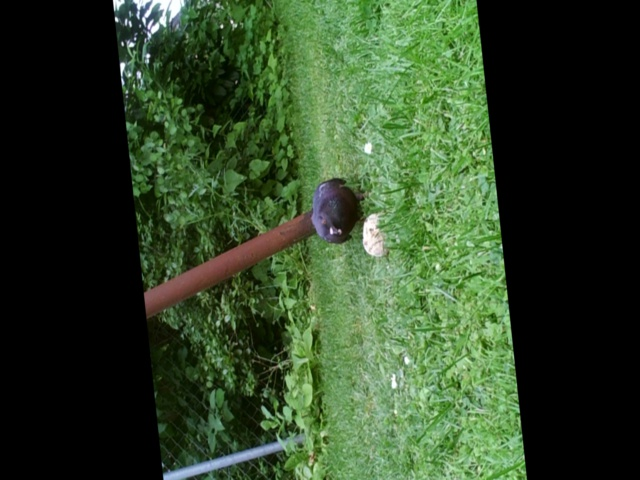Pigeon: (300, 179, 368, 244)
